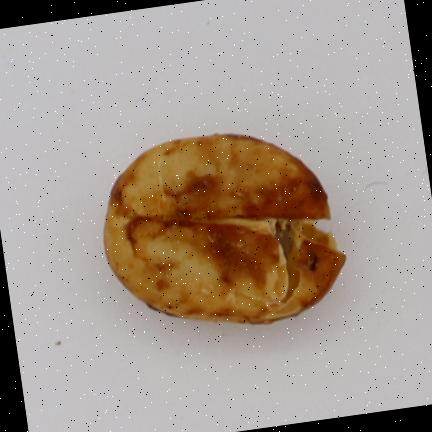parchment: (104, 135, 344, 322)
